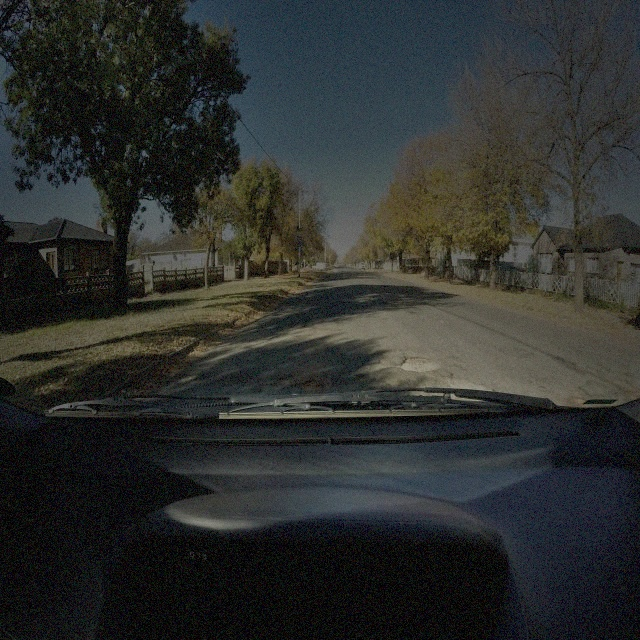pothole: (447, 374, 494, 394), (399, 355, 440, 374), (299, 378, 328, 394), (569, 396, 587, 410), (277, 374, 294, 385)
